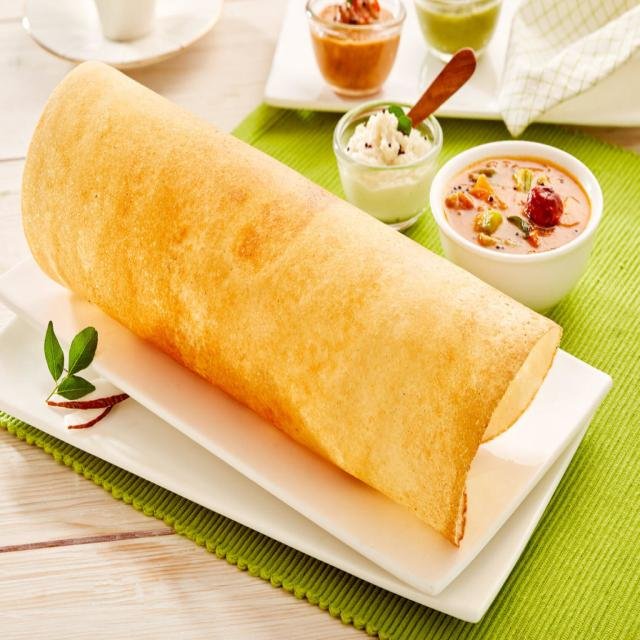DOSA: (24, 61, 559, 544)
